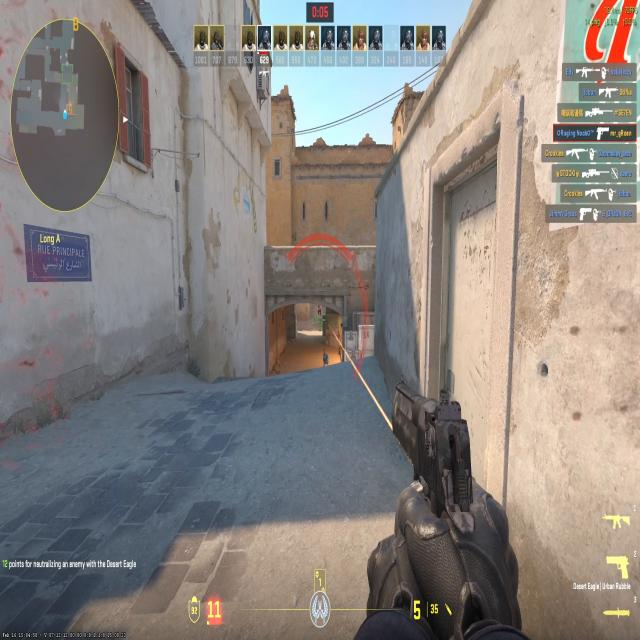player: (316, 302, 326, 319)
